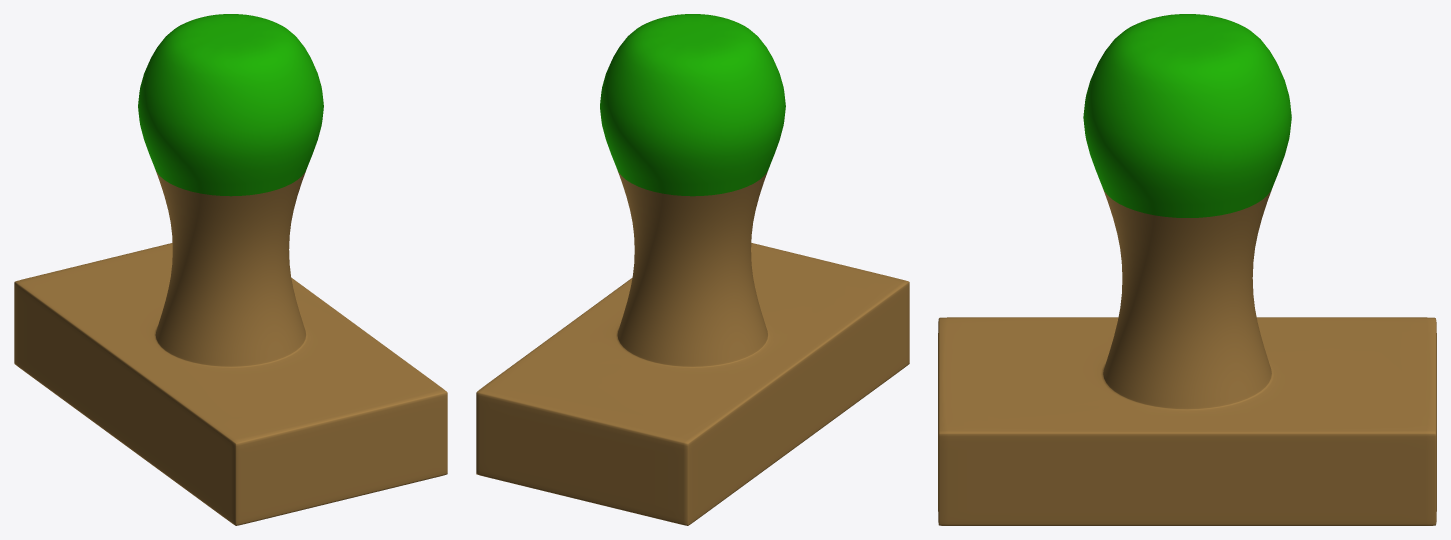
The model's file is GreenStamp2.fbx.
3 views of the same model, side by side, from view 1: azimuth 30°, elevation 25°; view 2: azimuth 150°, elevation 25°; view 3: azimuth 270°, elevation 25° (orthographic). The views are drawn at different scales.
Visible parts, largest first — view 1: stamp2; view 2: stamp2; view 3: stamp2.
Boxes of the visible parts, box(x1,y1,x2,y2) form: stamp2: box(14, 14, 447, 525); stamp2: box(476, 14, 909, 525); stamp2: box(938, 14, 1436, 525).
Size of the model in its own units: 155 by 269 by 281.
